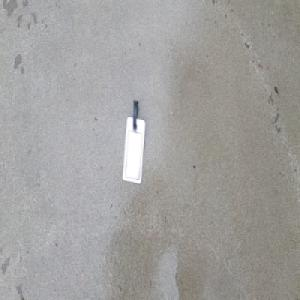LuggageTag: (121, 100, 146, 186)
